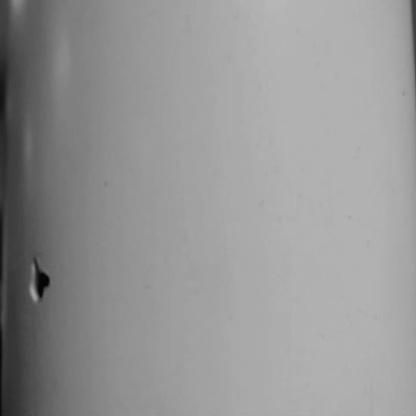kongdong: (25, 251, 56, 303)
